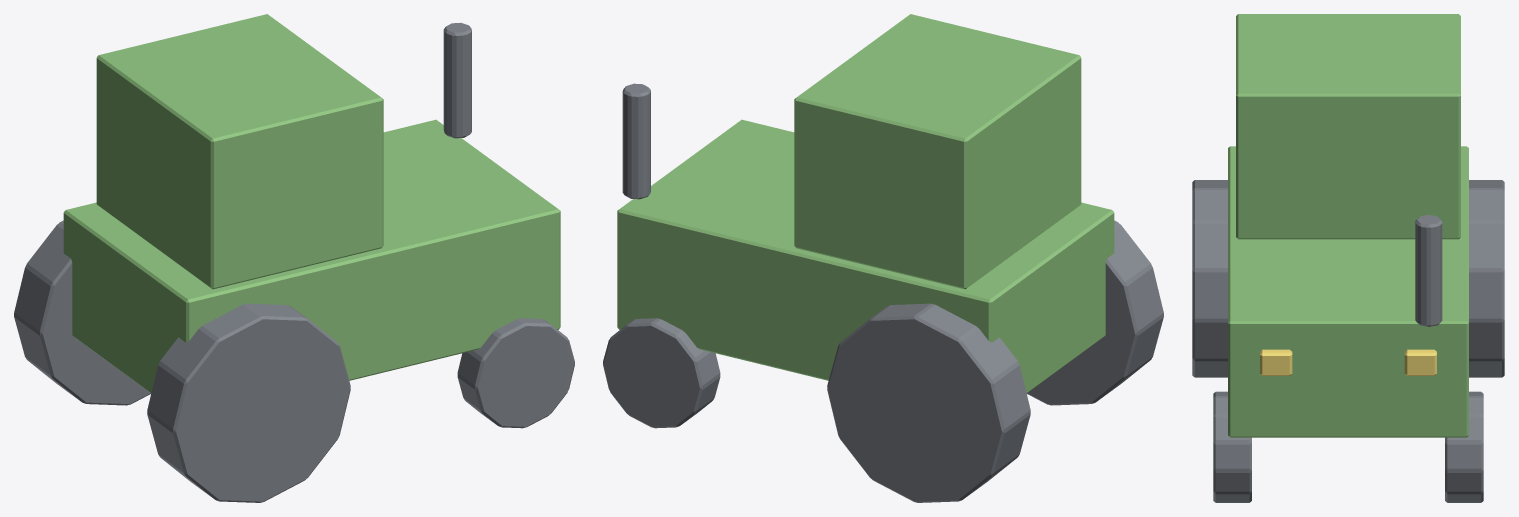
File: 车_拖拉机_01.fbx
3 views of the same model, side by side, from view 1: azimuth 30°, elevation 25°; view 2: azimuth 150°, elevation 25°; view 3: azimuth 270°, elevation 25° (orthographic). The views are drawn at different scales.
Parts seen in each view (by area): view 1: 驾驶室.006, 车体.002, 车轮.015, 排气管; view 2: 驾驶室.006, 车体.002, 车轮.015, 排气管; view 3: 驾驶室.006, 车体.002, 车轮.015, 排气管, 前灯.
Boxes of the visible parts, box(x1,y1,x2,y2) form: 驾驶室.006: box(96, 14, 383, 289); 车体.002: box(63, 119, 560, 392); 车轮.015: box(14, 220, 574, 502); 排气管: box(443, 22, 471, 138); 驾驶室.006: box(794, 14, 1081, 289); 车体.002: box(617, 119, 1114, 392); 车轮.015: box(603, 220, 1163, 502); 排气管: box(622, 83, 650, 199); 驾驶室.006: box(1236, 14, 1460, 239); 车体.002: box(1228, 146, 1468, 437); 车轮.015: box(1192, 180, 1504, 502); 排气管: box(1415, 215, 1442, 326); 前灯: box(1260, 349, 1436, 375).
Bounding box in the file's own units: 290 × 235 × 194.
